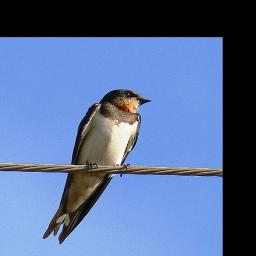Swallow: (42, 88, 153, 244)
